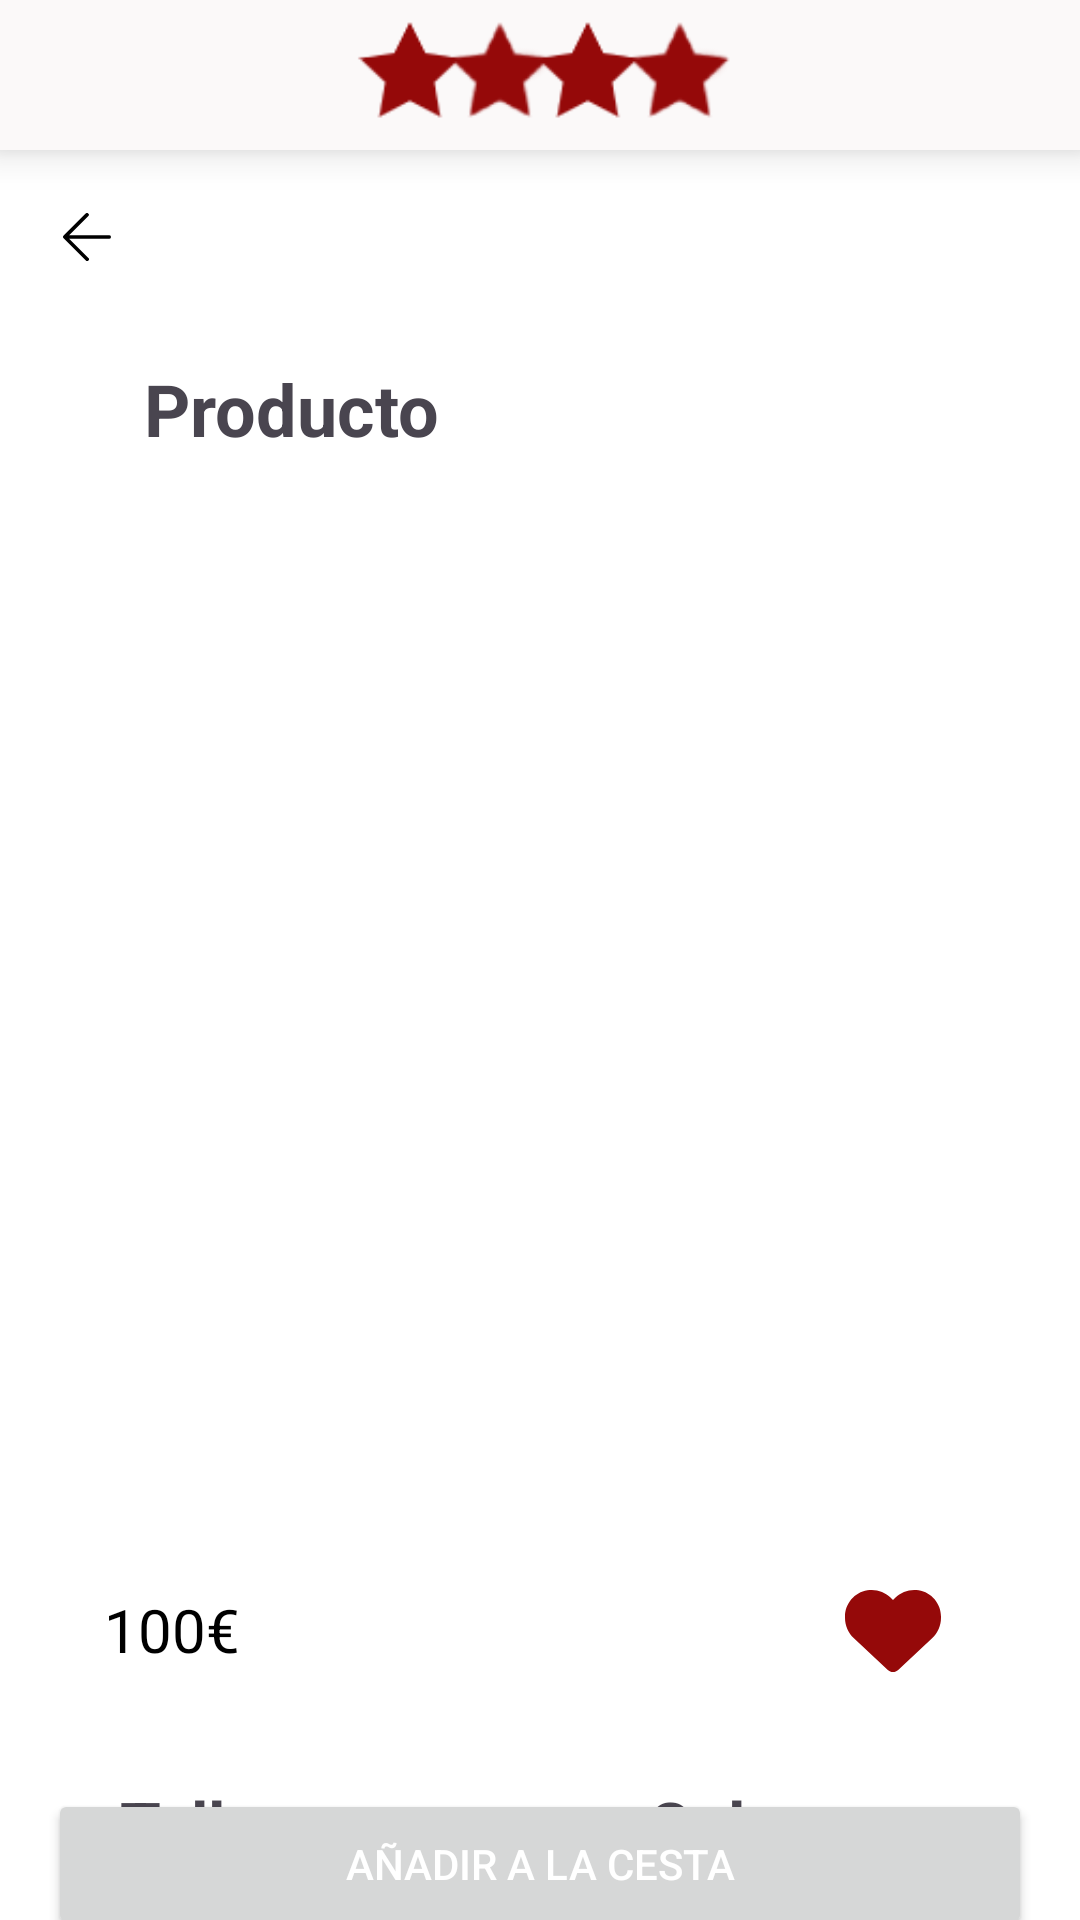

Icons on this 1080 x 1920 Android screen, each with its box as (x1, y1, x2, y2):
Añadir a favoritos: (845, 1590, 941, 1672)
back: (63, 213, 111, 261)
